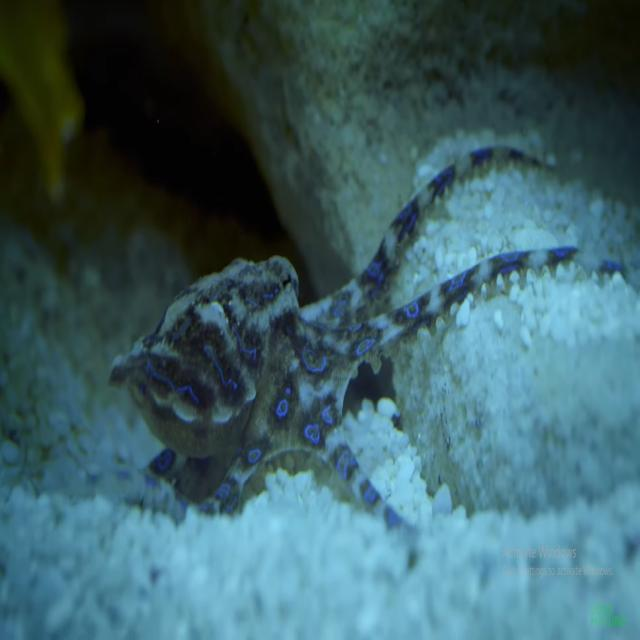blue_ringed_octopus: (108, 145, 626, 537)
